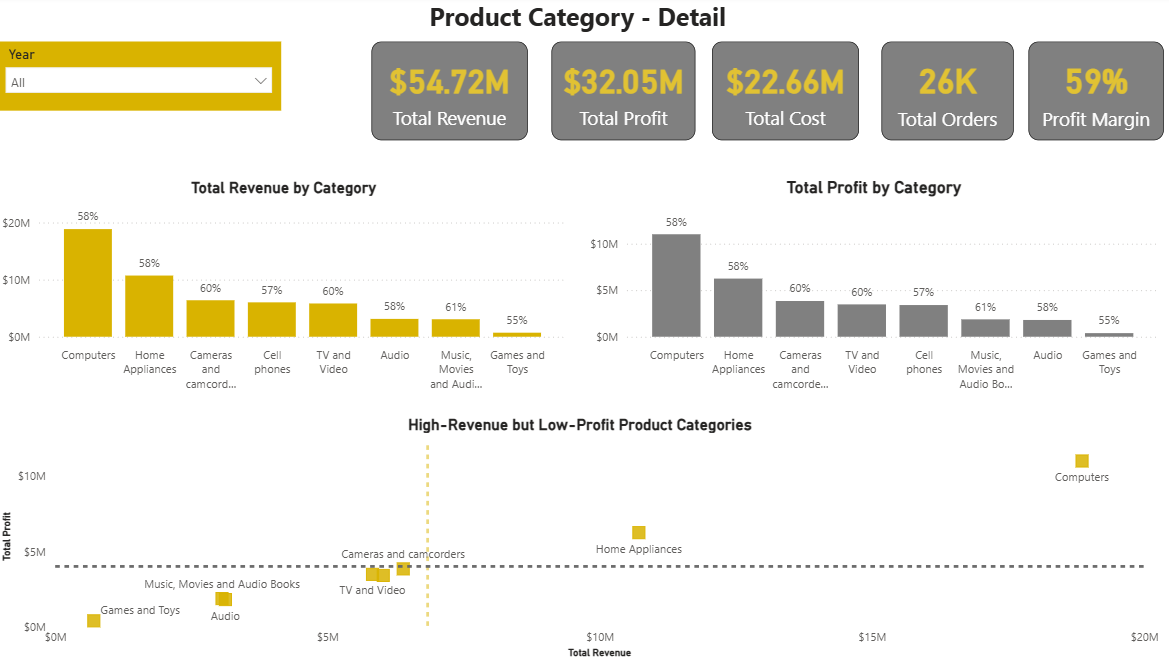

Layout of this report page (visuals, bound fields, positions):
{"tool":"powerbi","page":{"name":"Product Category Detail","canvas":[1280,720],"ordinal":2},"visuals":[{"type":"clusteredBarChart","fields":{"Category":["Products.Category"],"Y":["Measures (2).Total Revenue"]},"box":[14.6,176.5,625,252.6],"z":0},{"type":"clusteredBarChart","fields":{"Category":["Products.Category"],"Y":["Measures (2).Total Profit"]},"box":[639.6,176.5,641.2,252.6],"z":1000},{"type":"card","fields":{"Values":["Measures (2).Total Revenue"]},"box":[336.8,59.9,187.8,97.2],"z":2000},{"type":"card","fields":{"Values":["Measures (2).Total Profit"]},"box":[539.2,59.9,173.3,97.2],"z":3000},{"type":"card","fields":{"Values":["Measures (2).Total Orders"]},"box":[926.2,59.9,163.5,97.2],"z":4000},{"type":"card","fields":{"Values":["Measures (2).Profit Margin %"]},"box":[1102.7,58.3,161.9,98.8],"z":5000},{"type":"card","fields":{"Values":["Min(Products.Category)"]},"box":[0,113.3,296.3,43.7],"z":6000},{"type":"textbox","box":[11.3,74.5,285,40.5],"z":7000},{"type":"card","fields":{"Values":["Measures (2).Total Cost"]},"box":[730.3,59.9,174.9,97.2],"z":8000},{"type":"textbox","box":[307.7,0,957,58.3],"z":9000},{"type":"slicer","fields":{"Values":["Sales.Order Date.Variation.Date Hierarchy.Year"]},"box":[0,9.7,307.7,64.8],"z":10000},{"type":"scatterChart","title":"High-Revenue but Low-Profit Product Categories","fields":{"X":["Measures (2).Total Revenue"],"Y":["Measures (2).Total Profit"],"Category":["Products.Category"]},"box":[0,471.2,1280.8,249.4],"z":11000}]}

Visuals, with their boxes in screenshot pixels (x1, y1, x2, y2), scaled from the page's 1280x720 canvas onto the 1169x658 screenshot:
clusteredBarChart - Products.Category x Measures (2).Total Revenue: bbox=[13, 161, 584, 392]
clusteredBarChart - Products.Category x Measures (2).Total Profit: bbox=[584, 161, 1168, 392]
card - Measures (2).Total Revenue: bbox=[308, 55, 479, 144]
card - Measures (2).Total Profit: bbox=[492, 55, 651, 144]
card - Measures (2).Total Orders: bbox=[846, 55, 995, 144]
card - Measures (2).Profit Margin %: bbox=[1007, 53, 1155, 144]
card - Min(Products.Category): bbox=[0, 104, 271, 143]
textbox: bbox=[10, 68, 271, 105]
card - Measures (2).Total Cost: bbox=[667, 55, 827, 144]
textbox: bbox=[281, 0, 1155, 53]
slicer - Sales.Order Date.Variation.Date Hierarchy.Year: bbox=[0, 9, 281, 68]
"High-Revenue but Low-Profit Product Categories" scatterChart: bbox=[0, 431, 1168, 657]
